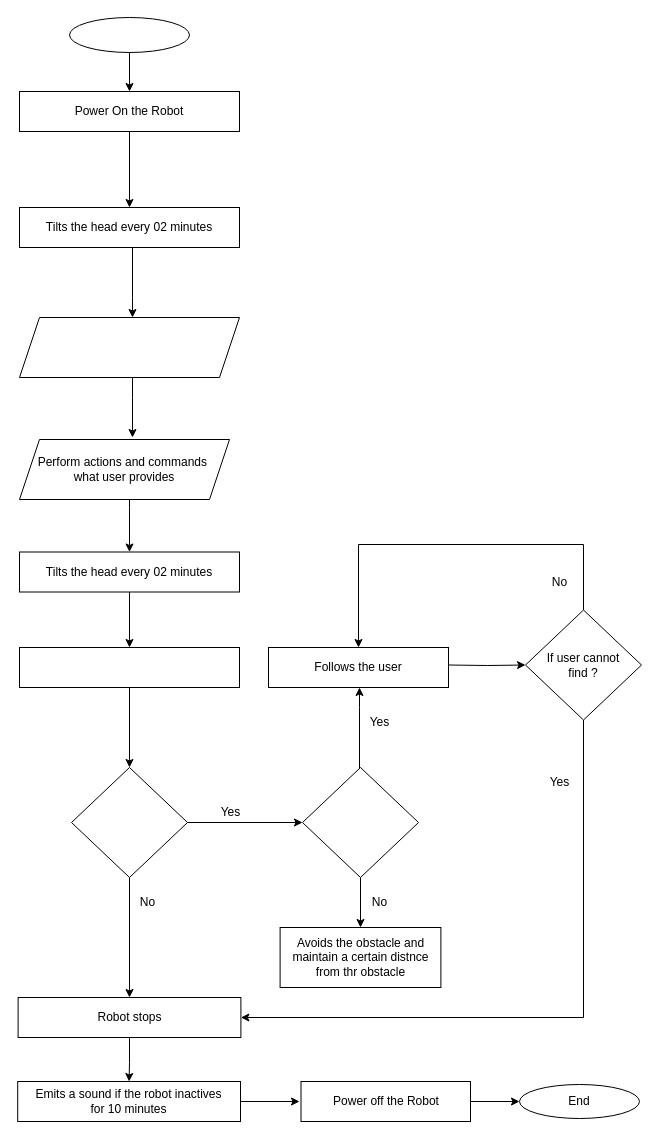
The diagram is 659 pixels wide and 1139 high, and some of its shapes have lost their labels. Each missing label, with the centre of its shape:
"Checks whether is it a human" belongs at (x=360, y=822).
"If Obstacles are there?" belongs at (x=129, y=822).
"Input commands such as walk, sit, stand, turn, tilt head and wag tail" belongs at (x=129, y=347).
"Searches for an obstacle" belongs at (x=129, y=667).
"Start" belongs at (x=129, y=34).
